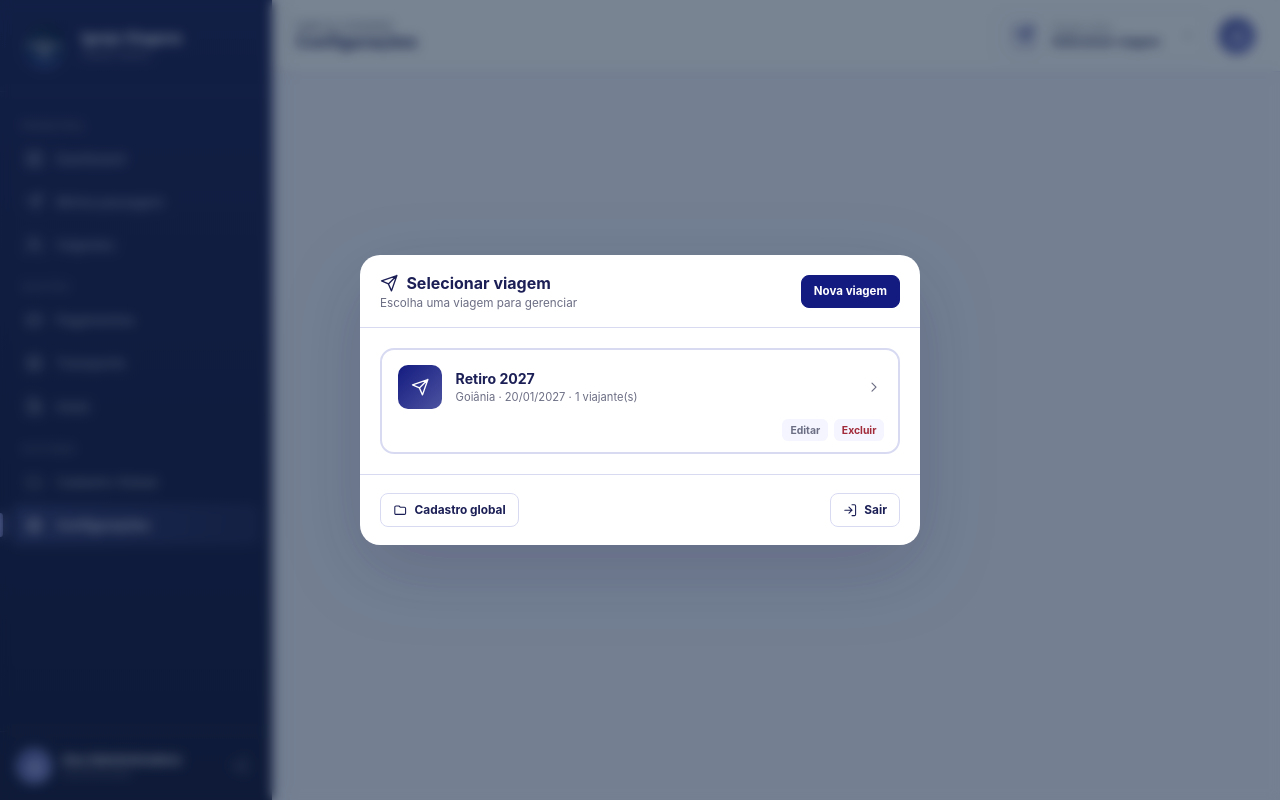
rotas e layout protegido › exige viagem em Configurações e permanece na rota após selecionar
Check: the dialog is shown, box [360,255,920,544]
Click the button "Retiro 2027 Goiânia · 20/01/2027 · 1 viajante(s)": (640, 387) [386,354,894,419]
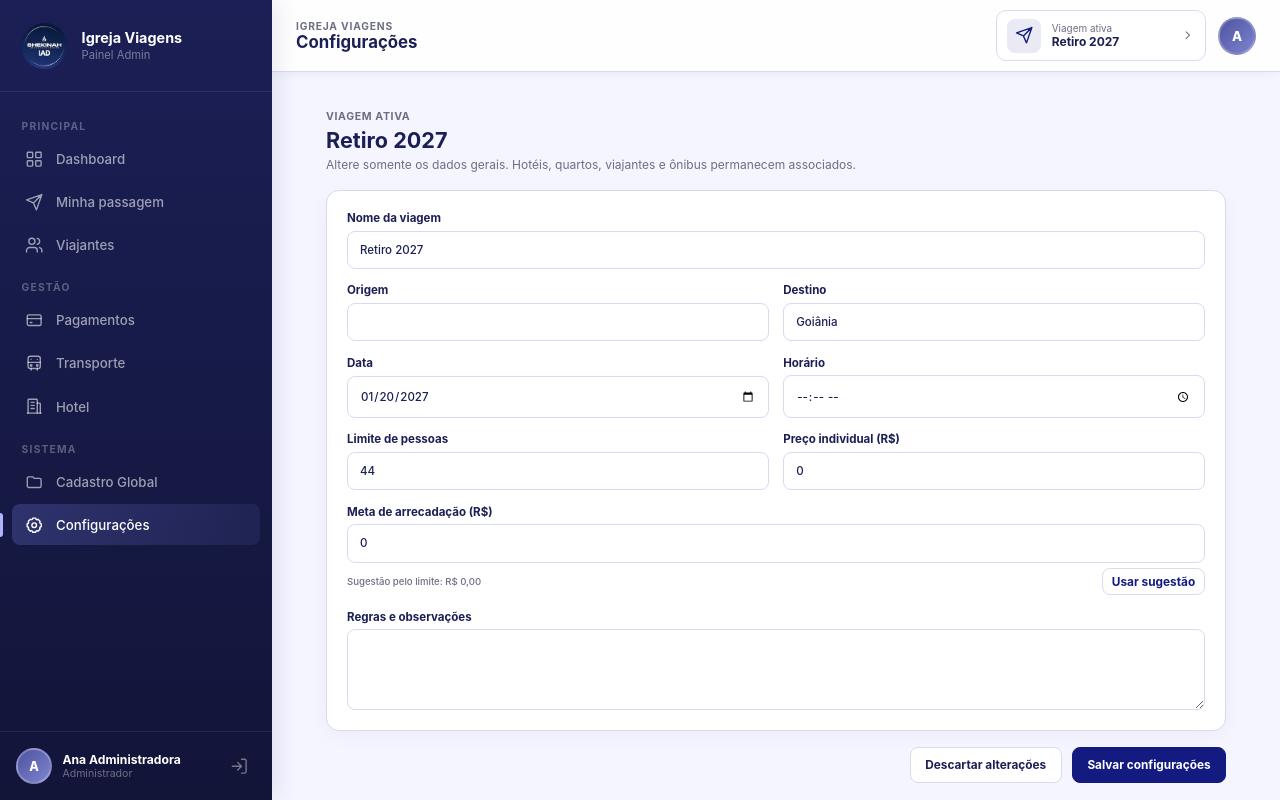
Check: the dialog is gone
Check: the button "Salvar configurações" is shown, box [1072,747,1226,783]
Check: the heading "Retiro 2027" is shown, box [326,126,448,152]
